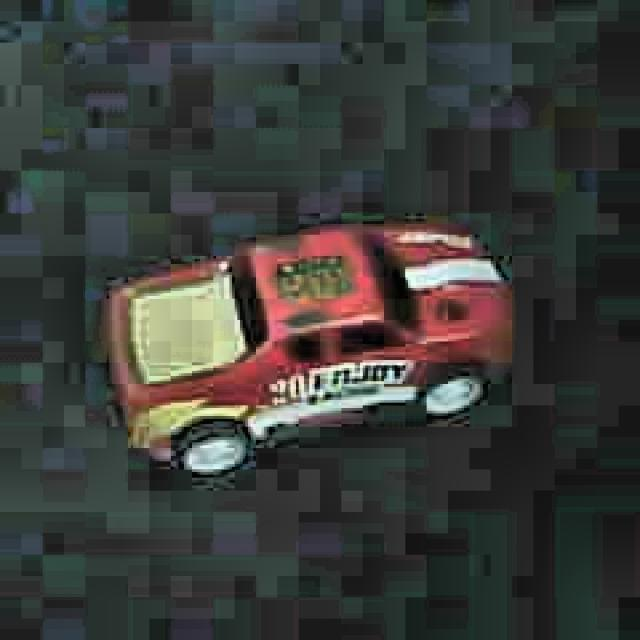car: (102, 218, 517, 480)
